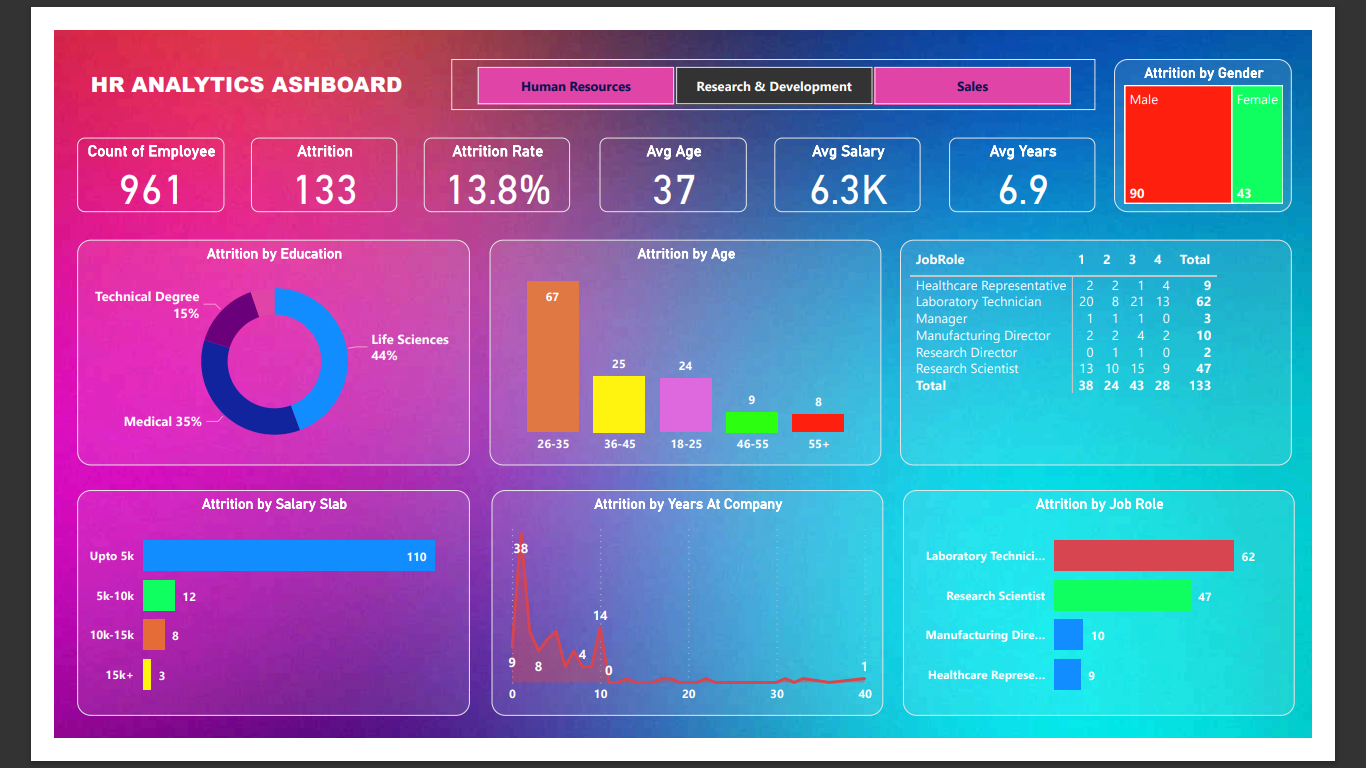

This screenshot's page, from the dashboard's own definition file:
{"tool":"powerbi","page":{"name":"Page 1","canvas":[1280,720],"ordinal":0},"visuals":[{"type":"card","title":"Attrition","fields":{"Values":["Sum(HR_Analytics.AttritionCount)"]},"box":[199.6,109,149.3,75.5],"z":0},{"type":"card","title":"Count of Employee","fields":{"Values":["CountNonNull(HR_Analytics.EmpID)"]},"box":[23.5,109,149.3,75.5],"z":1000},{"type":"card","title":"Attrition Rate","fields":{"Values":["HR_Analytics.AttritionRate"]},"box":[375.8,109,149.3,75.5],"z":2000},{"type":"card","title":"Avg Age","fields":{"Values":["Avg(HR_Analytics.Age)"]},"box":[555.3,109,149.3,75.5],"z":3000},{"type":"card","title":"Avg Salary","fields":{"Values":["Avg(HR_Analytics.MonthlyIncome)"]},"box":[733.1,109,149.3,75.5],"z":4000},{"type":"card","title":"Avg Years","fields":{"Values":["Avg(HR_Analytics.YearsAtCompany)"]},"box":[910.9,109,149.3,75.5],"z":5000},{"type":"donutChart","title":"Attrition by Education","fields":{"Category":["HR_Analytics.EducationField"],"Y":["Sum(HR_Analytics.AttritionCount)"]},"box":[23.5,213.1,399.3,229.8],"z":6000},{"type":"columnChart","title":"Attrition by Age","fields":{"Category":["HR_Analytics.AgeGroup"],"Y":["Sum(HR_Analytics.AttritionCount)"]},"box":[442.9,213.1,399.3,229.8],"z":7000},{"type":"pivotTable","fields":{"Rows":["HR_Analytics.JobRole"],"Columns":["HR_Analytics.JobSatisfaction"],"Values":["Sum(HR_Analytics.AttritionCount)"]},"box":[860.6,213.1,399.3,229.8],"z":8000},{"type":"barChart","title":"Attrition by Salary Slab","fields":{"Category":["HR_Analytics.SalarySlab"],"Y":["Sum(HR_Analytics.AttritionCount)"]},"box":[23.5,468,399.3,229.8],"z":9000},{"type":"barChart","title":"Attrition by Job Role","fields":{"Category":["HR_Analytics.JobRole"],"Y":["Sum(HR_Analytics.AttritionCount)"]},"box":[864,468,399.3,229.8],"z":10000},{"type":"areaChart","title":"Attrition by Years At Company","fields":{"Category":["HR_Analytics.YearsAtCompany"],"Y":["Sum(HR_Analytics.AttritionCount)"]},"box":[444.6,468,399.3,229.8],"z":11000},{"type":"treemap","title":"Attrition by Gender","fields":{"Group":["HR_Analytics.Gender"],"Values":["Sum(HR_Analytics.AttritionCount)"]},"box":[1078.7,28.5,181.2,156],"z":12000},{"type":"slicer","fields":{"Values":["HR_Analytics.Department"]},"box":[404.3,28.5,655.9,52],"z":13000},{"type":"textbox","box":[31.9,35.2,354,45.3],"z":14000}]}

Visuals, with their boxes in screenshot pixels (x1, y1, x2, y2), scaled from the page's 1280x720 canvas onto the 1366x768 screenshot:
"Attrition" card: <box>213,116,372,197</box>
"Count of Employee" card: <box>25,116,184,197</box>
"Attrition Rate" card: <box>401,116,560,197</box>
"Avg Age" card: <box>593,116,752,197</box>
"Avg Salary" card: <box>782,116,942,197</box>
"Avg Years" card: <box>972,116,1131,197</box>
"Attrition by Education" donutChart: <box>25,227,451,472</box>
"Attrition by Age" columnChart: <box>473,227,899,472</box>
pivotTable - HR_Analytics.JobRole x HR_Analytics.JobSatisfaction: <box>918,227,1345,472</box>
"Attrition by Salary Slab" barChart: <box>25,499,451,744</box>
"Attrition by Job Role" barChart: <box>922,499,1348,744</box>
"Attrition by Years At Company" areaChart: <box>474,499,901,744</box>
"Attrition by Gender" treemap: <box>1151,30,1345,197</box>
slicer - HR_Analytics.Department: <box>431,30,1131,86</box>
textbox: <box>34,38,412,86</box>
